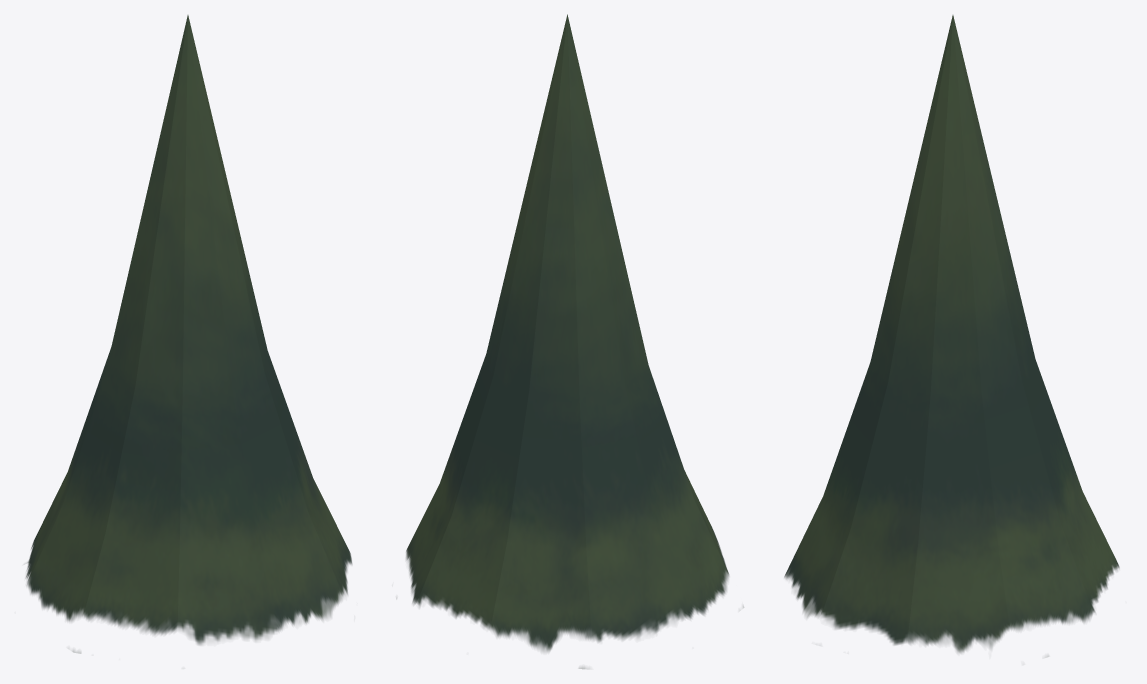
File: polysurface99_lambert6_0_lev2.glb
3 views of the same model, side by side, from view 1: azimuth 30°, elevation 25°; view 2: azimuth 150°, elevation 25°; view 3: azimuth 270°, elevation 25° (orthographic).
Parts seen in each view (by area): view 1: polysurface99_lambert6_0_lev2; view 2: polysurface99_lambert6_0_lev2; view 3: polysurface99_lambert6_0_lev2.
Boxes of the visible parts, x1,y1,x2,y2 form: polysurface99_lambert6_0_lev2: (25,15,352,653); polysurface99_lambert6_0_lev2: (396,14,743,668); polysurface99_lambert6_0_lev2: (784,15,1119,656).
Size of the model in its own units: 3.42 by 6.34 by 3.55.
1 material, 1 textured.
